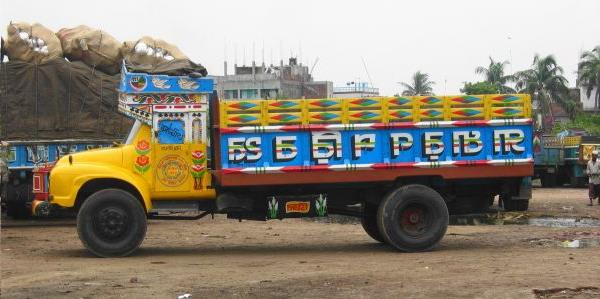truck: (43, 70, 537, 251), (1, 104, 134, 215), (529, 128, 564, 185), (568, 128, 597, 185)
